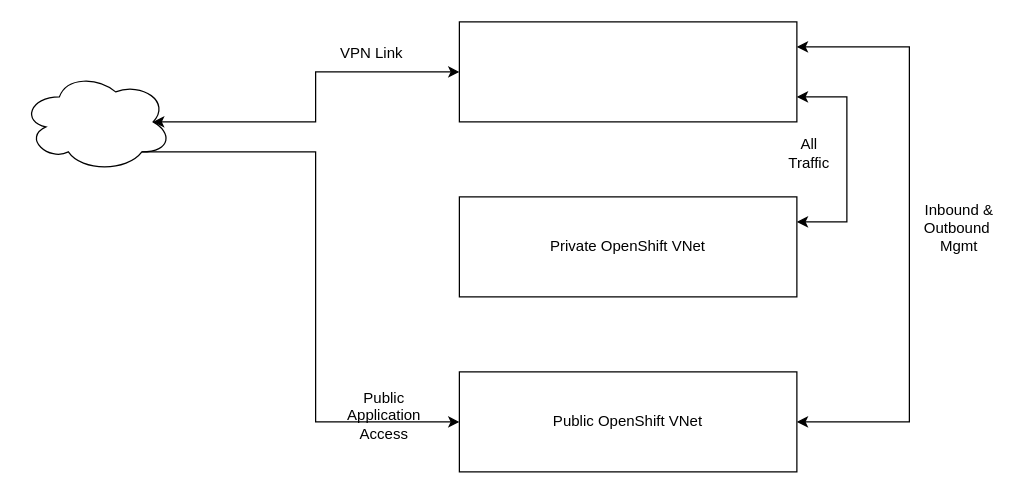
Image size: 1019x494. Some labels were removed from this diagram. Here are the shapes that lost their labels. From the top down, the centre of each, then its label:
point 627,71: Edge Vnet
point 96,121: Internet
